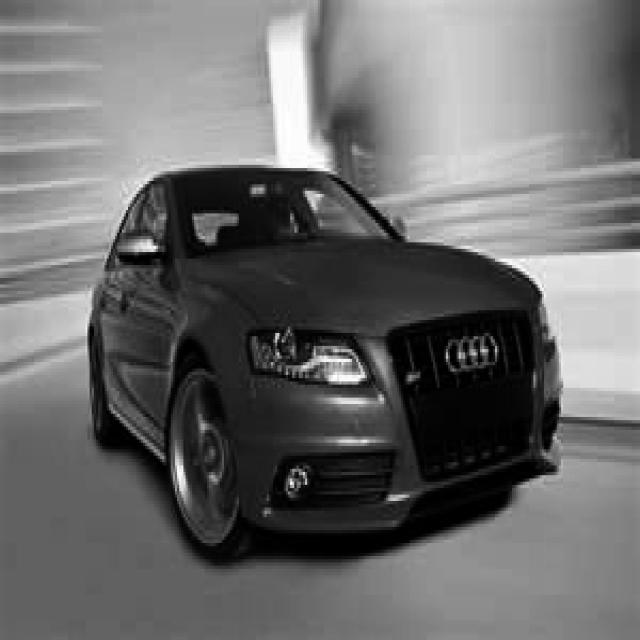car: (86, 158, 564, 556)
